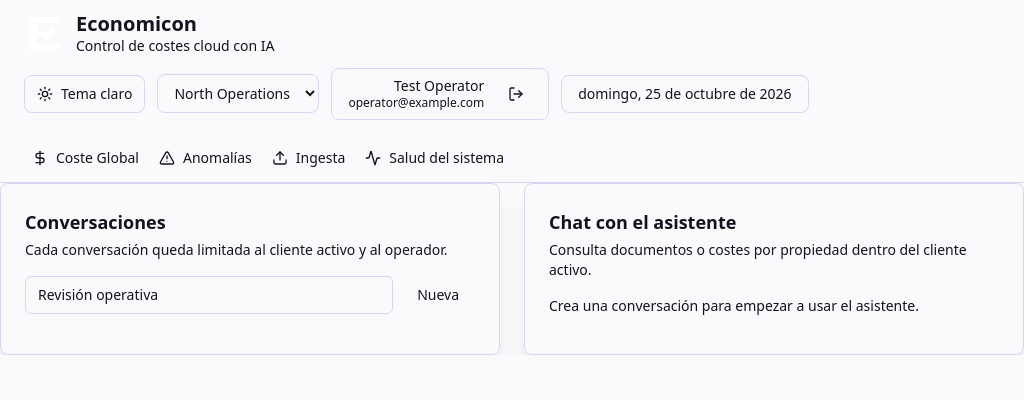
Test: assistant conversations › preserves the proposed title after conversation creation fails
Replace the text in the field with placeholder "Título de la nueva conversación" with "Retain this cost investigation" at (209, 294), box x1=25 y1=276 x2=393 y2=314
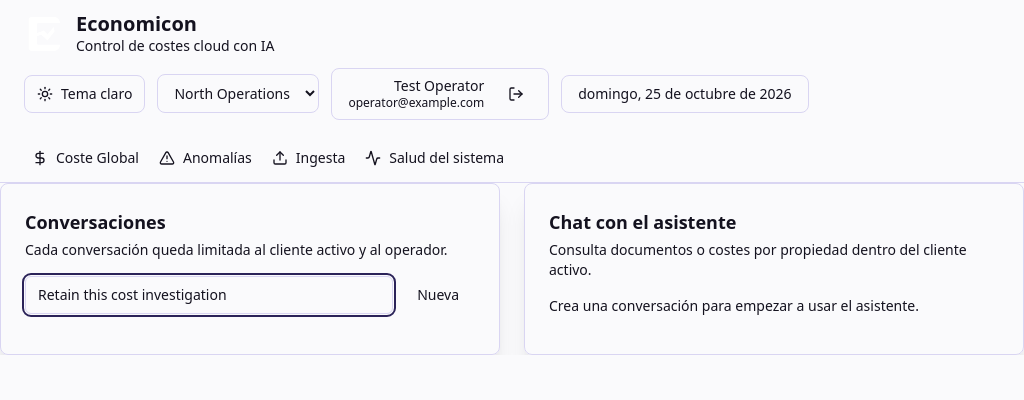
Click the button "Nueva" at (438, 294), box x1=401 y1=276 x2=475 y2=314
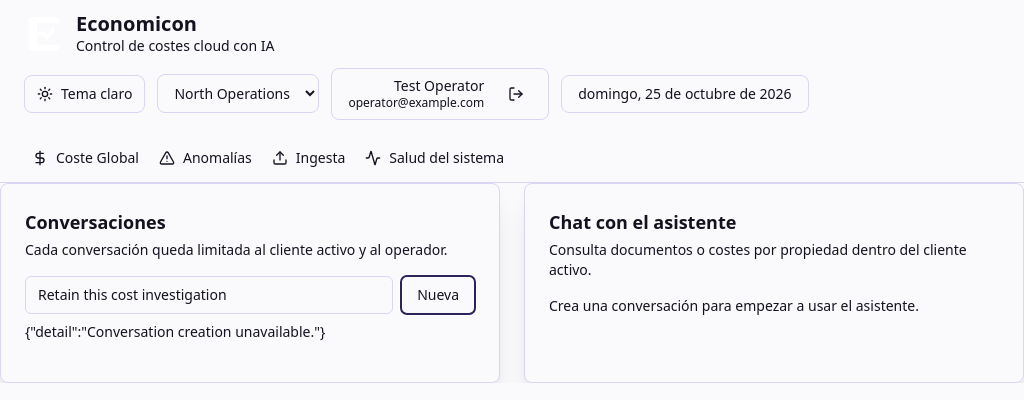
Result: the text "{\"detail\":\"Conversation creation unavailable.\"}" is shown at x1=25 y1=322 x2=325 y2=340
